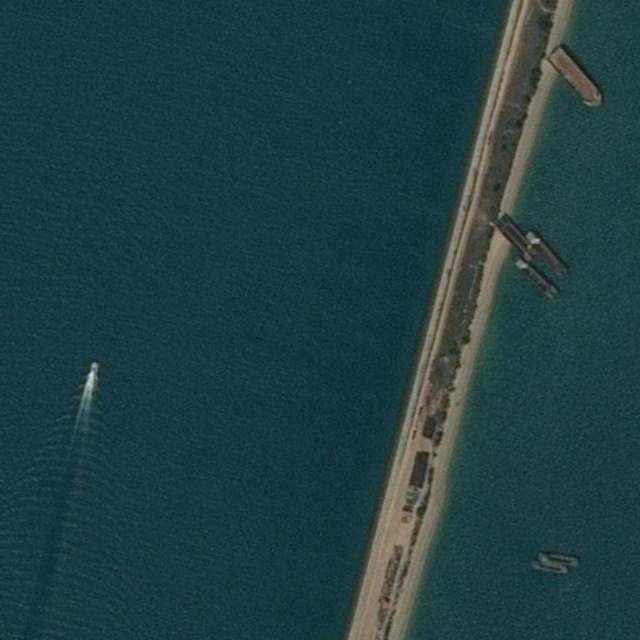wake: (14, 347, 135, 564)
